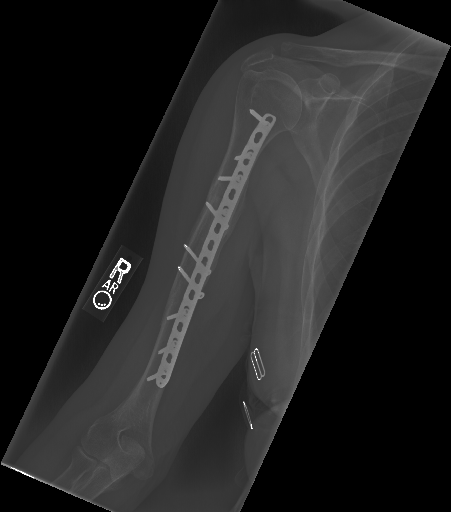implant: (147, 105, 279, 389), (243, 337, 271, 389)
